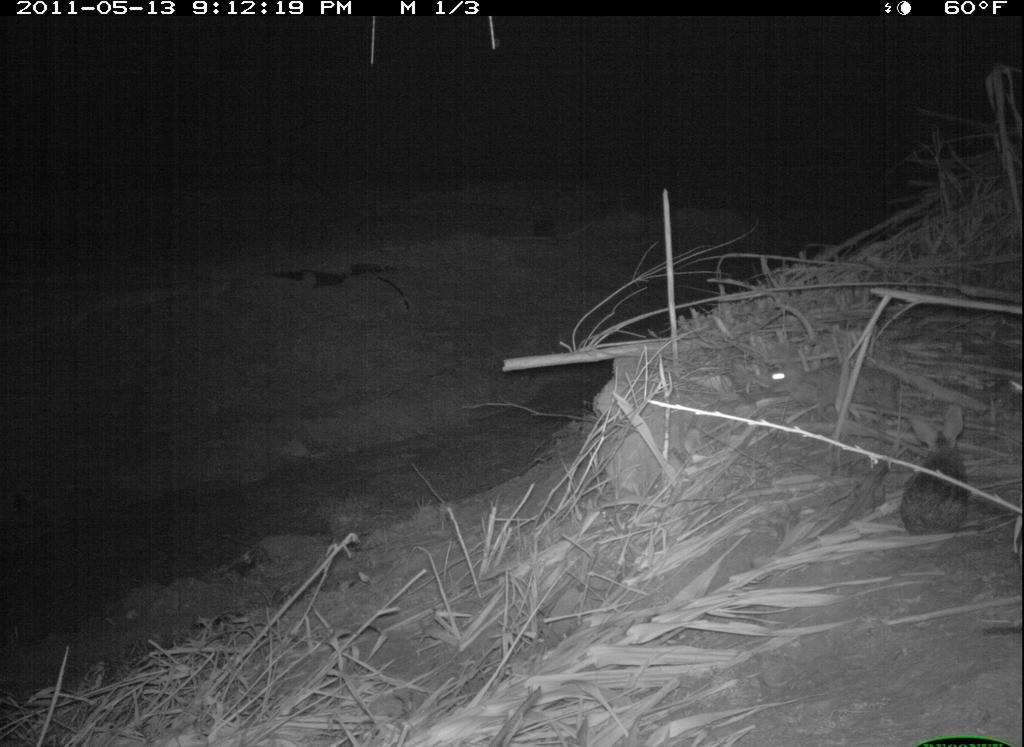rabbit: (886, 404, 989, 542)
